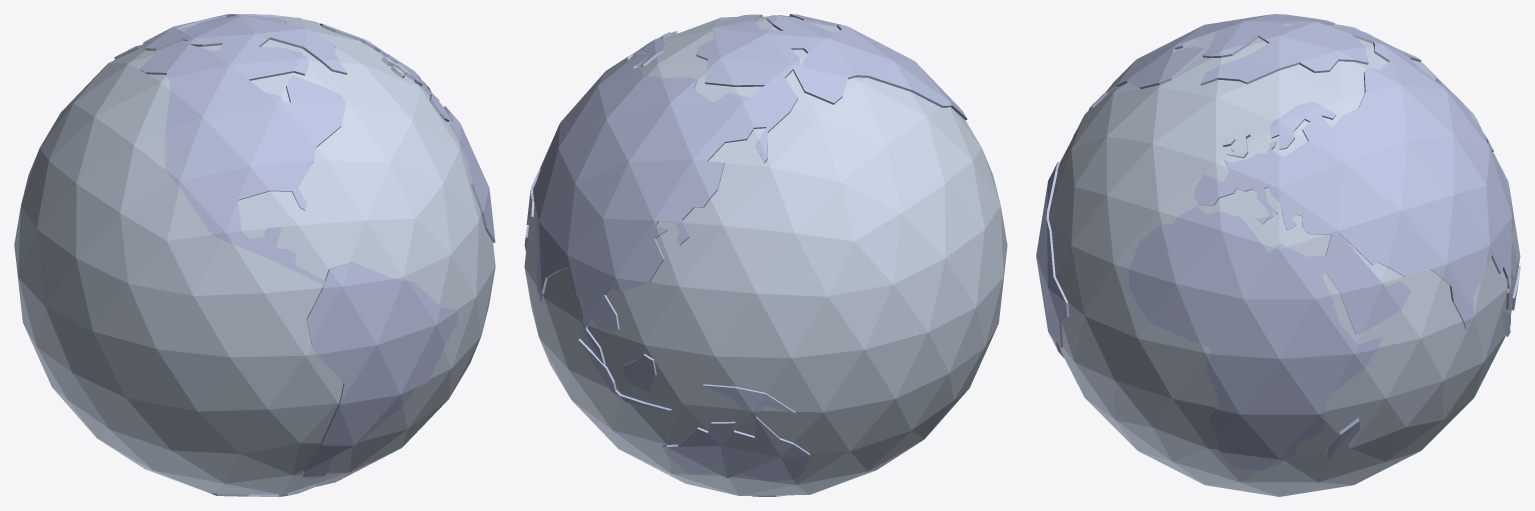
Rendered from globe.glb.
3 renders of one model, left to right at view 1: azimuth 30°, elevation 25°; view 2: azimuth 150°, elevation 25°; view 3: azimuth 270°, elevation 25°, orthographic.
Parts seen in each view (by area): view 1: Icosphere.001; view 2: Icosphere.001; view 3: Icosphere.001.
Boxes of the visible parts, x1,y1,x2,y2 form: Icosphere.001: (14, 14, 495, 496); Icosphere.001: (524, 14, 1007, 496); Icosphere.001: (1036, 14, 1520, 496).
Size of the model in its own units: 2.01 by 2.02 by 2.01.
